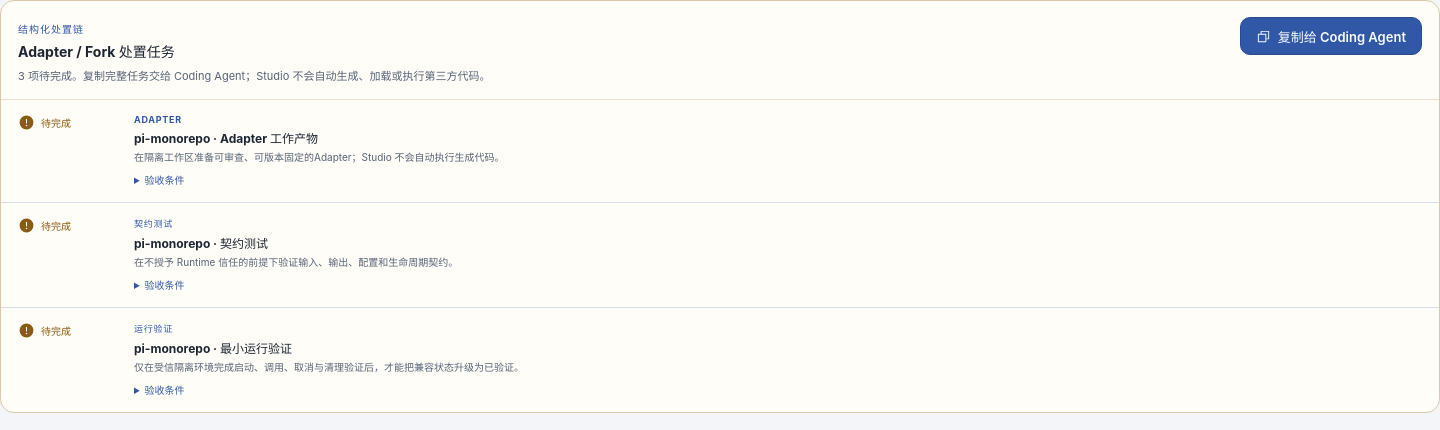
Test: RemediationTaskList › keeps the action retryable when clipboard writing fails
The width and height of the screenshot is (1440, 430).
Step 1. Click the button "复制给 Coding Agent" → (1331, 36), box [1240,17,1422,55]
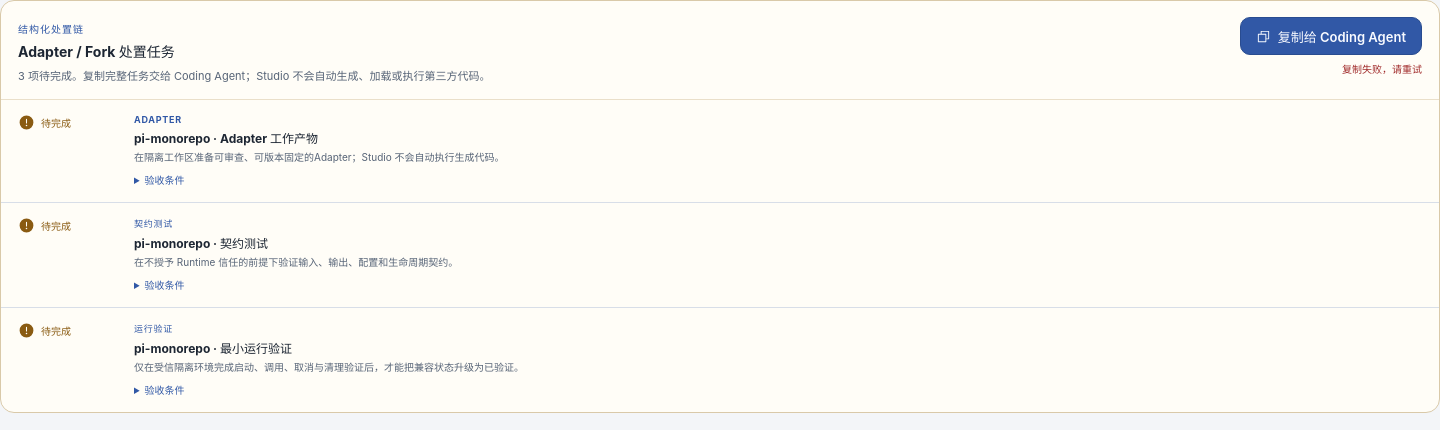
Expected: the message reads "复制失败，请重试", [1342,63,1422,75]
